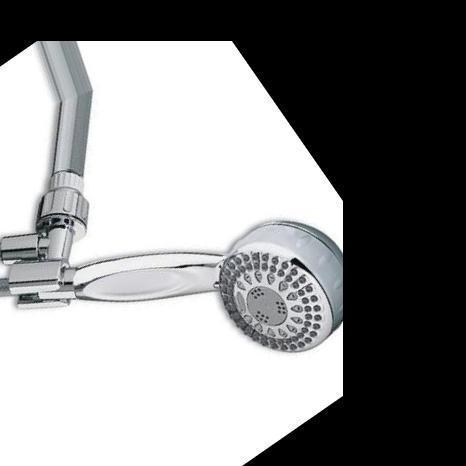Ducha: (0, 0, 388, 466)
